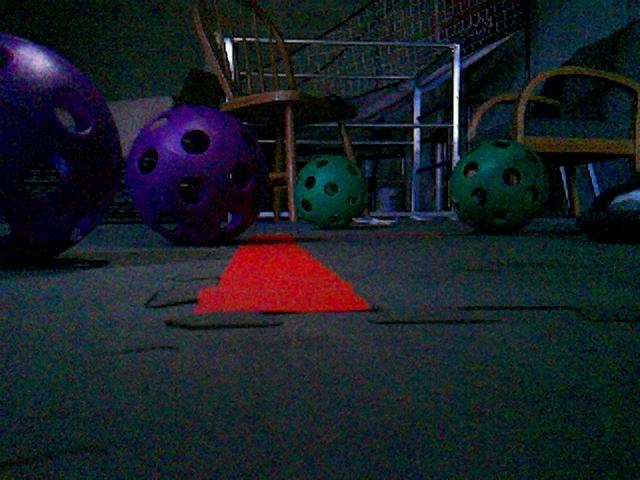Green: (446, 139, 550, 232), (293, 154, 367, 228)
Purple: (0, 36, 123, 261), (125, 106, 269, 246)
